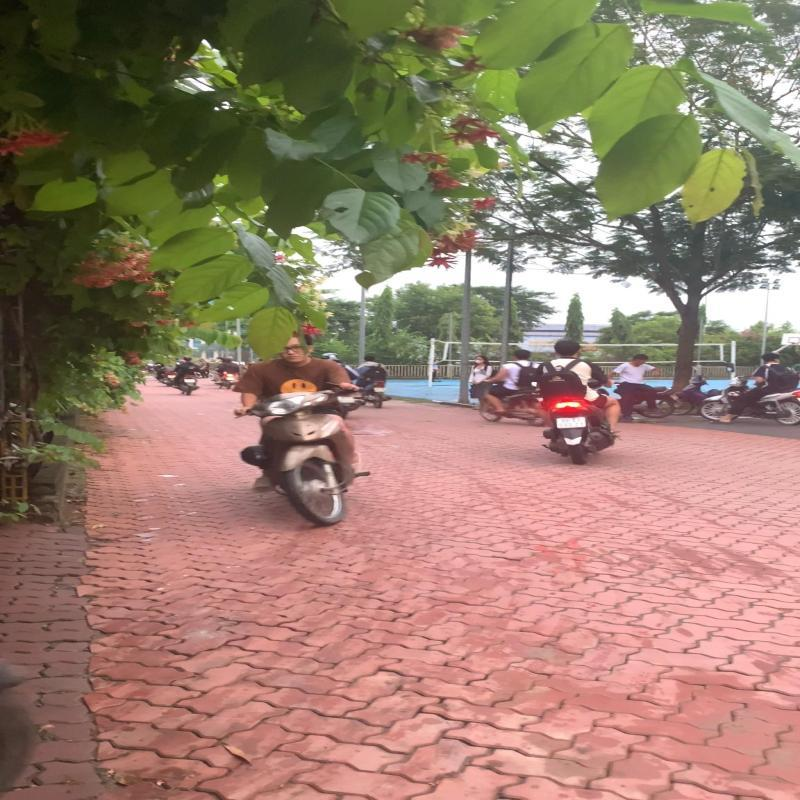licenseplate: (554, 416, 588, 429)
motorcyclist: (530, 338, 627, 465)
nohelmet: (554, 338, 582, 357), (511, 348, 532, 361)
